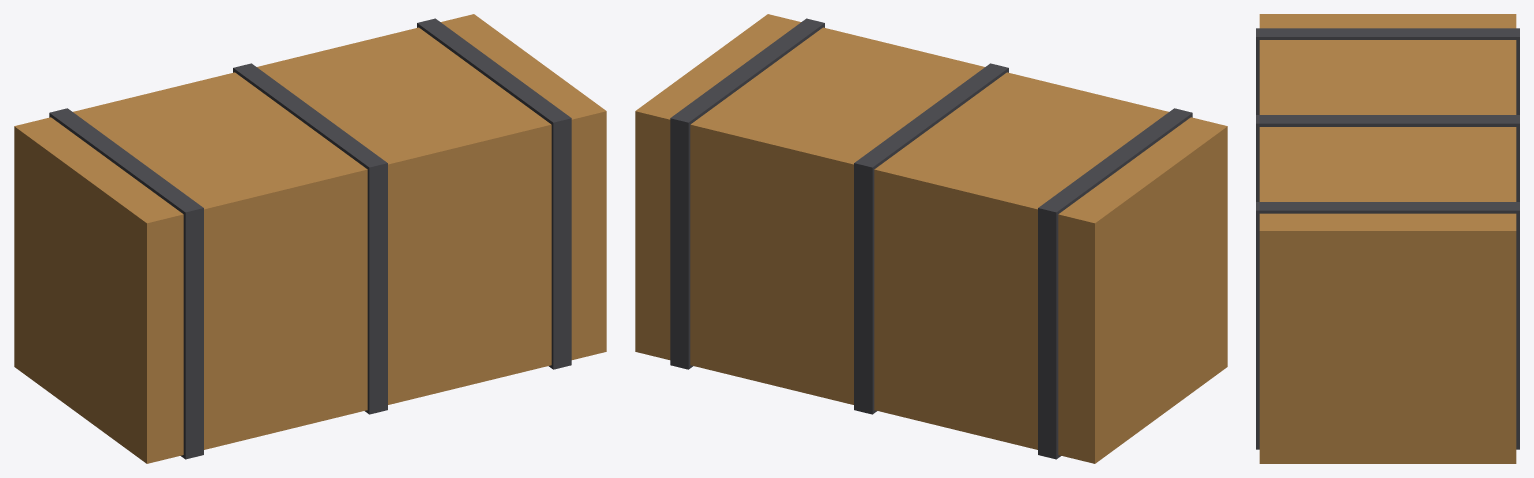
Rendered from crate_load.glb.
3 views of the same model, side by side, from view 1: azimuth 30°, elevation 25°; view 2: azimuth 150°, elevation 25°; view 3: azimuth 270°, elevation 25° (orthographic). The views are drawn at different scales.
Visible parts, largest first — view 1: Body, _MeshInstance3D_5, Band, _MeshInstance3D_6; view 2: Body, _MeshInstance3D_5, Band, _MeshInstance3D_6; view 3: Body, _MeshInstance3D_6, Band, _MeshInstance3D_5.
Part boxes in pixels (x1,y1,x2,y2): Body: (14,14,606,463); _MeshInstance3D_5: (233,63,387,414); Band: (49,108,203,459); _MeshInstance3D_6: (417,18,571,369); Body: (635,14,1227,463); _MeshInstance3D_5: (854,63,1008,414); Band: (1038,108,1192,459); _MeshInstance3D_6: (670,18,824,369); Body: (1259,14,1516,463); _MeshInstance3D_6: (1256,202,1519,449); Band: (1256,28,1519,114); _MeshInstance3D_5: (1256,115,1519,201).
Bounding box in the file's own units: 3 × 1.54 × 1.54.
